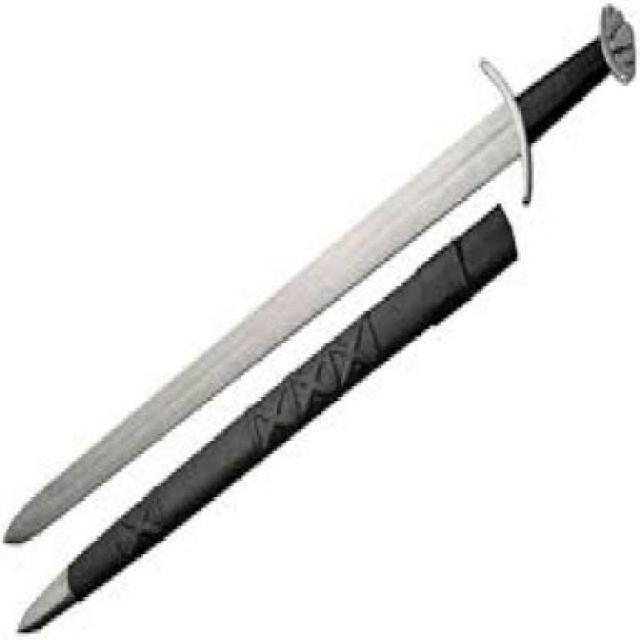weapon: (1, 2, 637, 633)
